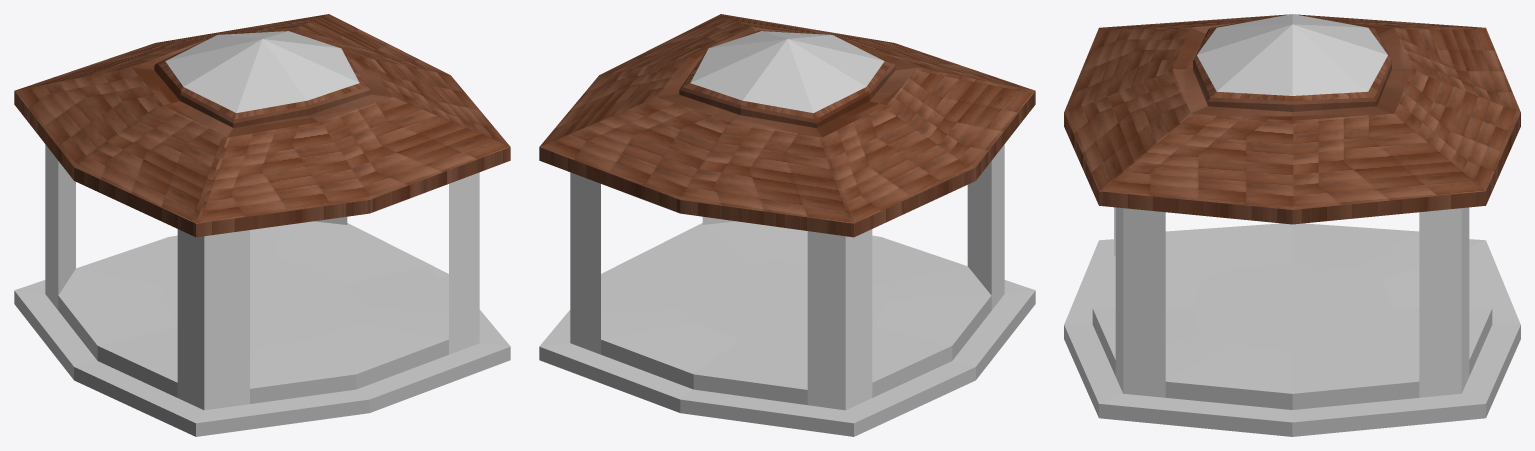
Rendered from Gazebo.fbx.
3 views of the same model, side by side, from view 1: azimuth 30°, elevation 25°; view 2: azimuth 150°, elevation 25°; view 3: azimuth 270°, elevation 25° (orthographic). The views are drawn at different scales.
Parts seen in each view (by area): view 1: Roof, Floor, Pole, Skylight, Floor Light; view 2: Roof, Floor, Pole, Skylight, Floor Light; view 3: Roof, Floor, Pole, Floor Light, Skylight.
Boxes of the visible parts, x1=… form: Roof: x1=14, y1=14, x2=510, y2=237; Floor: x1=14, y1=221, x2=510, y2=436; Pole: x1=45, y1=144, x2=479, y2=410; Skylight: x1=165, y1=31, x2=359, y2=112; Floor Light: x1=159, y1=260, x2=366, y2=347; Roof: x1=539, y1=14, x2=1035, y2=237; Floor: x1=539, y1=221, x2=1035, y2=436; Pole: x1=570, y1=144, x2=1004, y2=410; Skylight: x1=690, y1=31, x2=884, y2=112; Floor Light: x1=683, y1=260, x2=890, y2=347; Roof: x1=1064, y1=14, x2=1520, y2=224; Floor: x1=1064, y1=223, x2=1520, y2=436; Pole: x1=1114, y1=207, x2=1469, y2=397; Floor Light: x1=1191, y1=264, x2=1393, y2=351; Skylight: x1=1197, y1=14, x2=1387, y2=95.
Size of the model in its own units: 2152 by 1614 by 2122.
